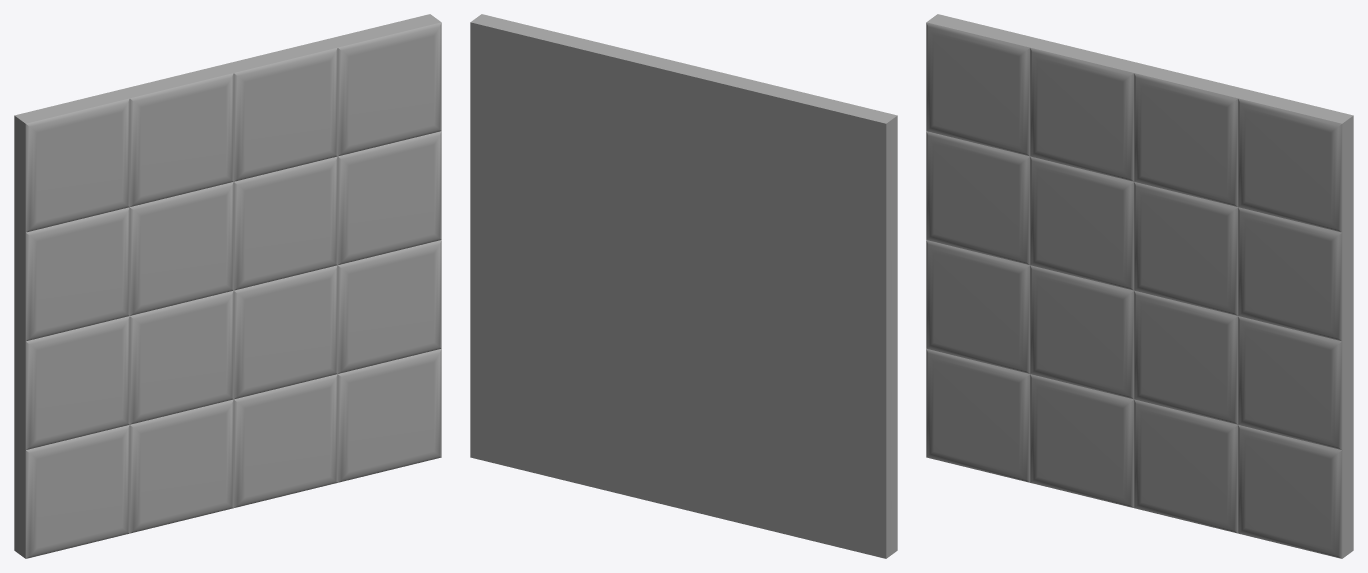
File: geo_tiles.fbx
3 renders of one model, left to right at view 1: azimuth 30°, elevation 25°; view 2: azimuth 150°, elevation 25°; view 3: azimuth 330°, elevation 25°, orthographic.
Visible parts, largest first — view 1: geo_tiles; view 2: geo_tiles; view 3: geo_tiles.
Boxes of the visible parts, <box> form: geo_tiles: <box>14,14,441,558</box>; geo_tiles: <box>470,14,897,558</box>; geo_tiles: <box>926,14,1353,558</box>.
Bounding box in the file's own units: 1 × 1 × 0.0551.
Materials: 1 (1 with a texture image).
